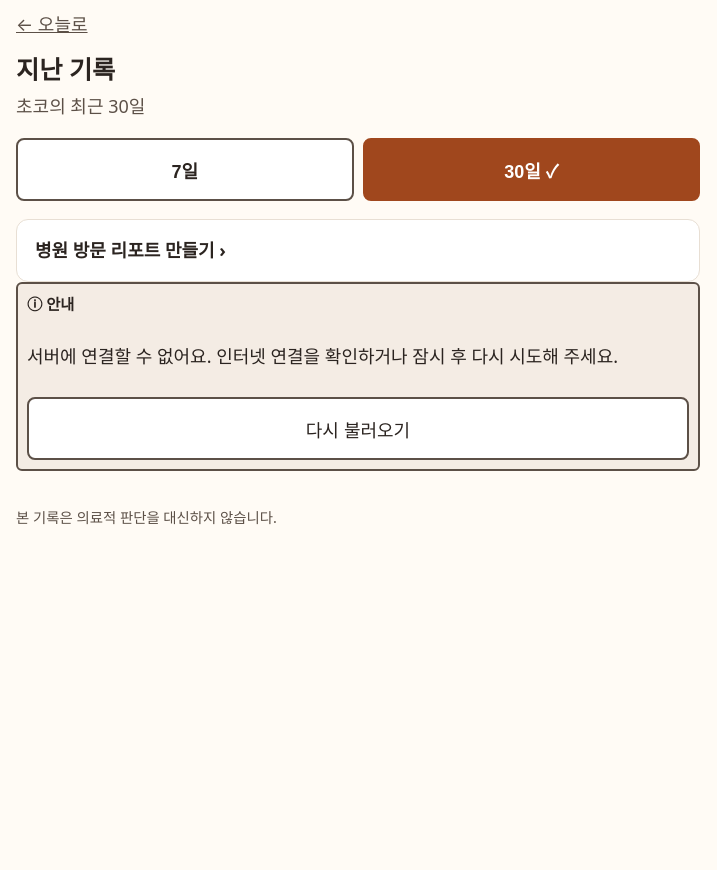
H1 지난 기록 › 오류: 네트워크 문구와 다시 불러오기, 면책은 오류 중에도 보인다
The image size is (717, 870).
Check: the message "서버에 연결할 수 없어요. 인터넷 연결을 확인하거나 잠시 후 다시 시도해 주세요. 다시 불러오기" is shown, box [16,282,700,471]
Check: the text "본 기록은 의료적 판단을 대신하지 않습니다." is shown, box [16,508,277,527]
Click the button "다시 불러오기".
click(358, 429)  # box [27,397,689,460]
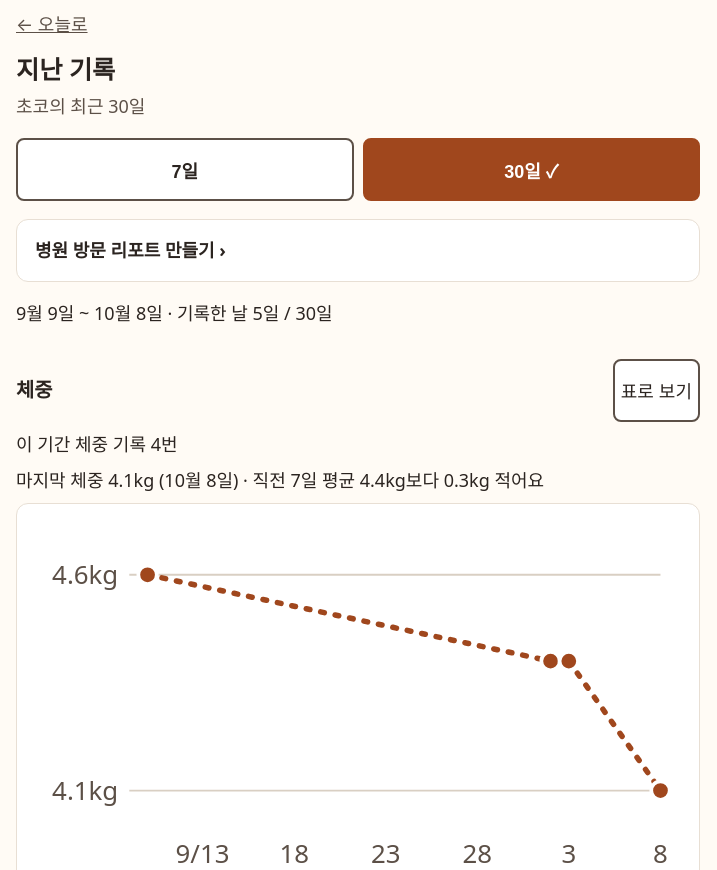
Check: the text "9월 9일 ~ 10월 8일 · 기록한 날 5일 / 30일" is shown, box [16,301,333,325]
